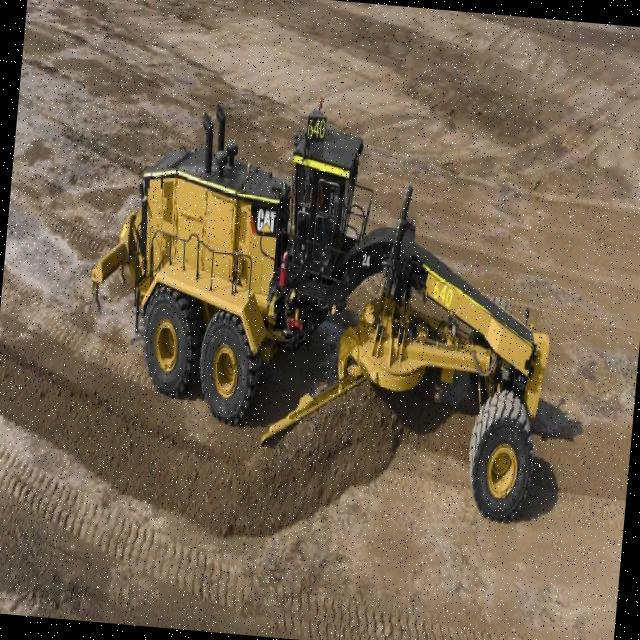Grader: (68, 48, 593, 527)
